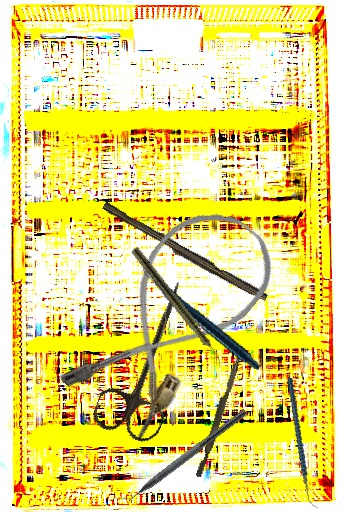Cannula: (53, 189, 290, 446)
Chopper: (113, 400, 248, 512), (266, 377, 340, 509)
Handpiece: (140, 240, 262, 392), (129, 245, 229, 370)
Iris Scissors: (89, 269, 208, 447)
Pusher: (195, 344, 245, 479)
Scalpel Handle: (99, 201, 270, 305)
